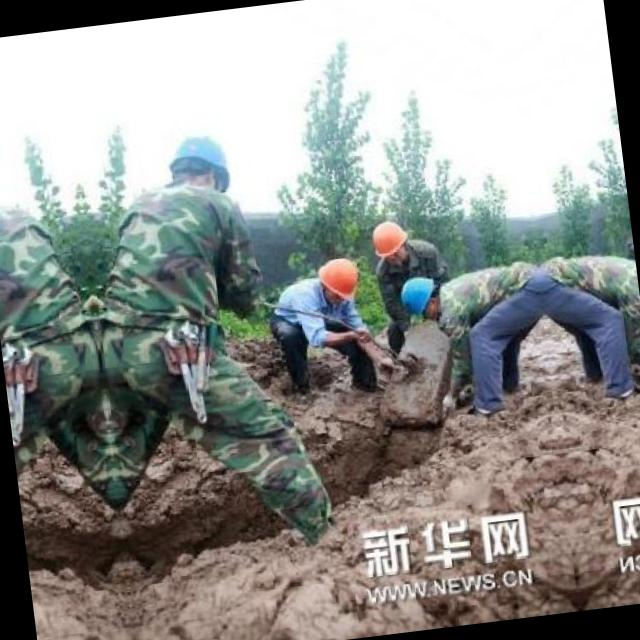helmet: (154, 118, 234, 218), (308, 251, 362, 305), (362, 215, 413, 272), (396, 274, 441, 326)
